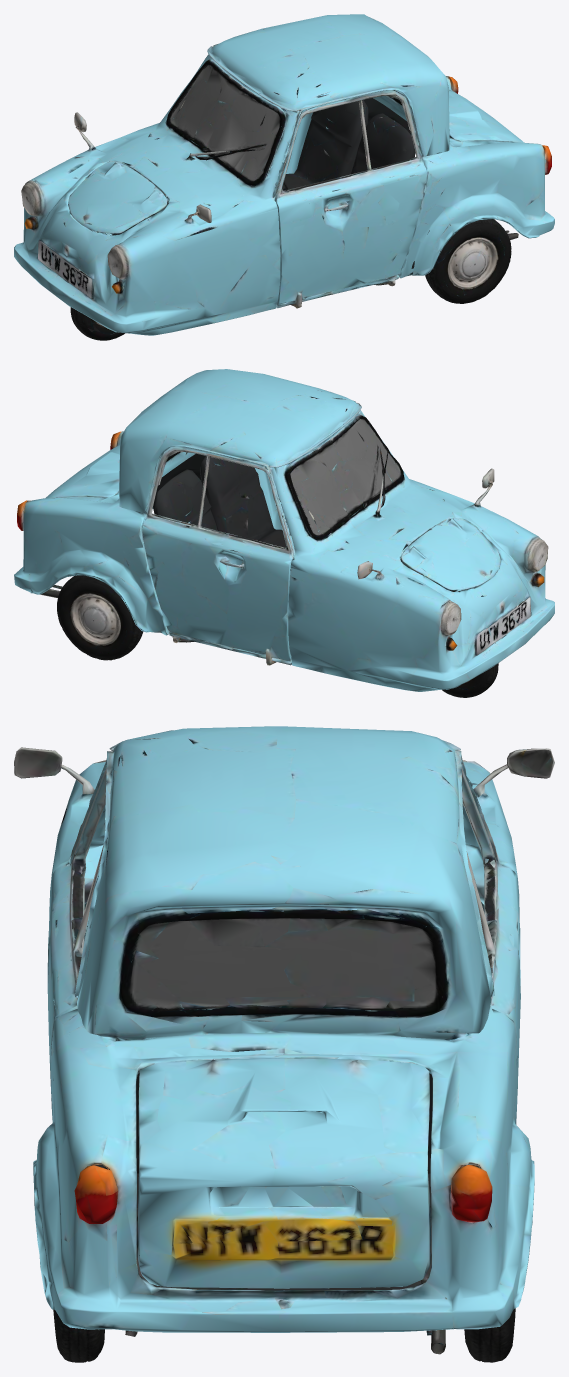
File: mobility-car-SHRINK.glb
The picture shows the model from 3 angles, top to bottom: view 1: azimuth 30°, elevation 25°; view 2: azimuth 150°, elevation 25°; view 3: azimuth 270°, elevation 25°; orthographic projection. The views are drawn at different scales.
Visible parts, largest first — view 1: object 1, Wheel_RL, Wheel_F; view 2: object 1, Wheel_RR, Wheel_F; view 3: object 1, Wheel_RL, Wheel_RR.
Part boxes in pixels (box(x1,y1,x2,y2)): object 1: box(14, 14, 554, 335); Wheel_RL: box(425, 219, 511, 303); Wheel_F: box(70, 307, 124, 340); object 1: box(14, 369, 554, 691); Wheel_RR: box(57, 575, 143, 660); Wheel_F: box(442, 663, 498, 697); object 1: box(14, 726, 554, 1354); Wheel_RL: box(53, 1309, 104, 1362); Wheel_RR: box(464, 1308, 515, 1362).
Size of the model in its own units: 1.9 by 0.9905 by 0.9957.
Materials: 1 (1 with a texture image).
